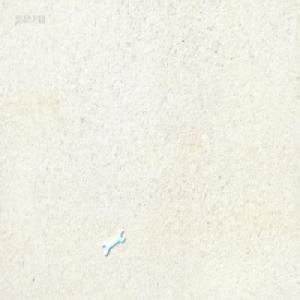Wrench: (102, 226, 125, 254)
